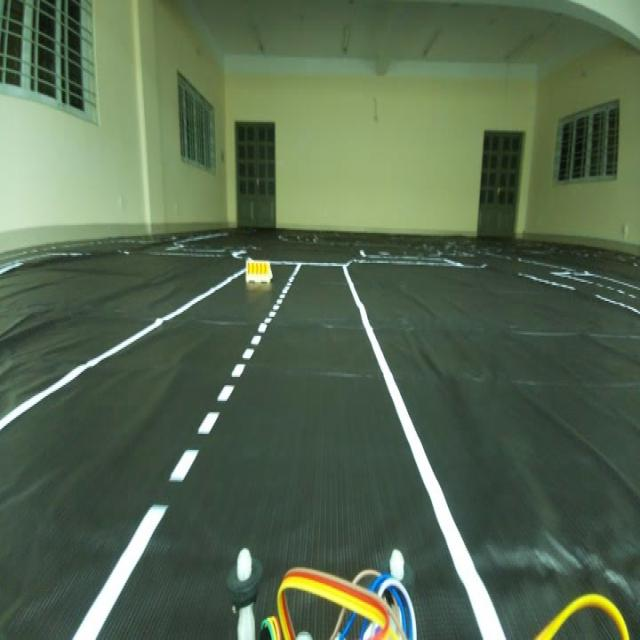roadblock: (243, 245, 273, 290)
